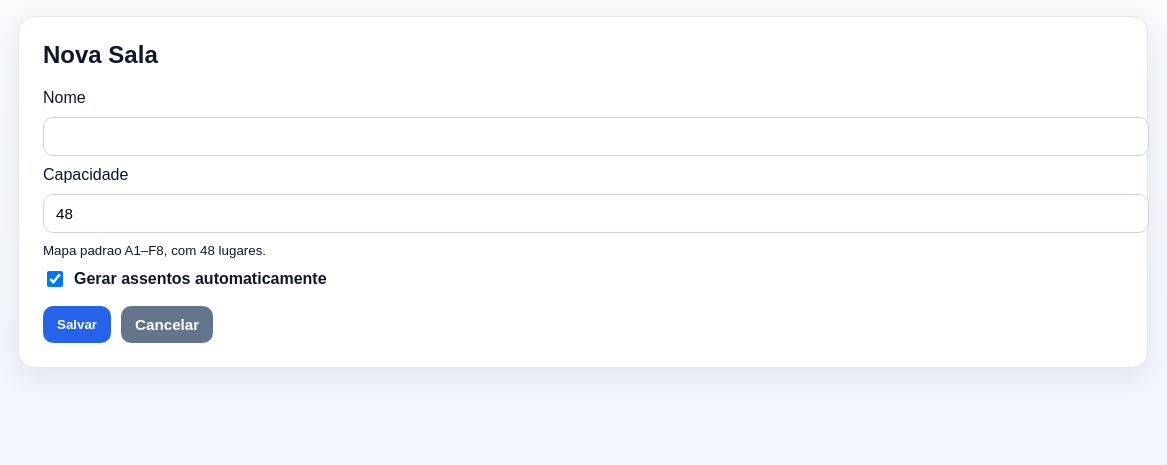
it: não gera assentos quando a opção está desmarcada e informa falha sem repetir escrita
Type "Sala de teste" into the field named "nome" at (596, 136), box [43, 117, 1149, 156]
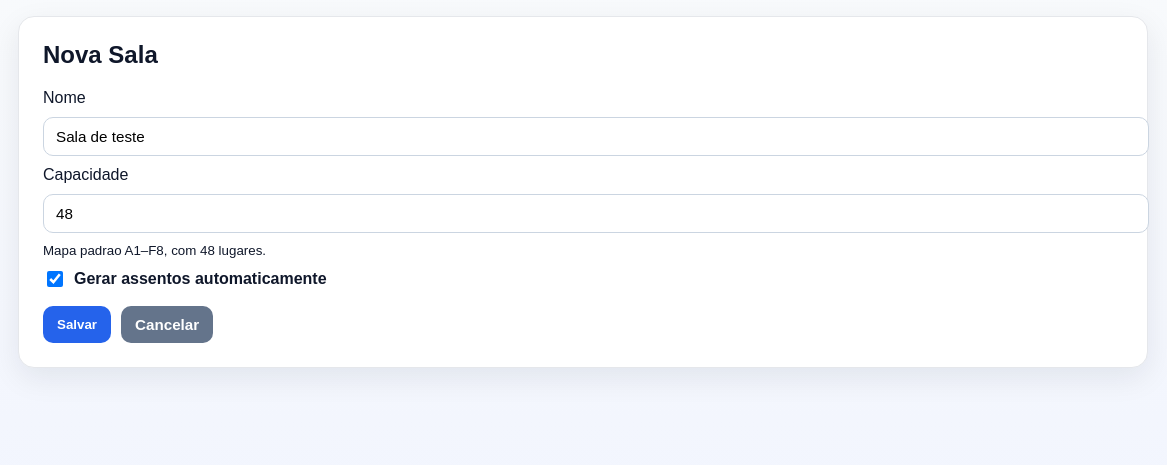
Click the checkbox at (55, 279), box [47, 271, 63, 287]
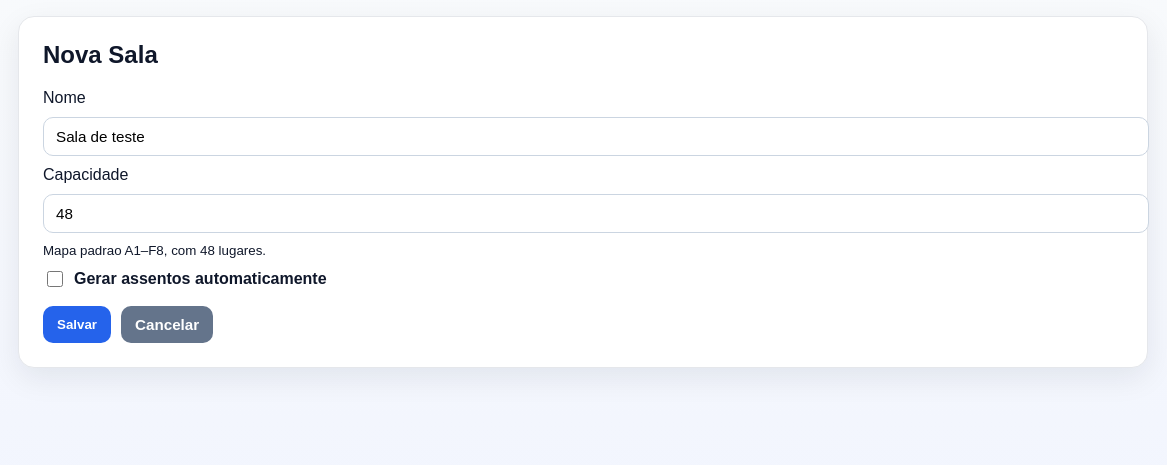
Click the button "Salvar" at (77, 324), box [43, 306, 111, 343]
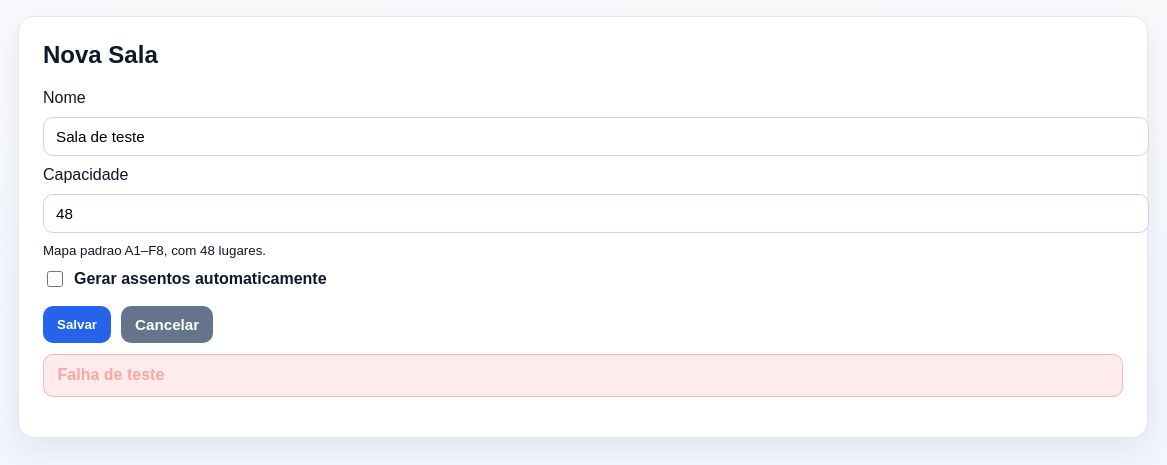
Check: the text "Falha de teste" is shown, box [43, 354, 1123, 397]
